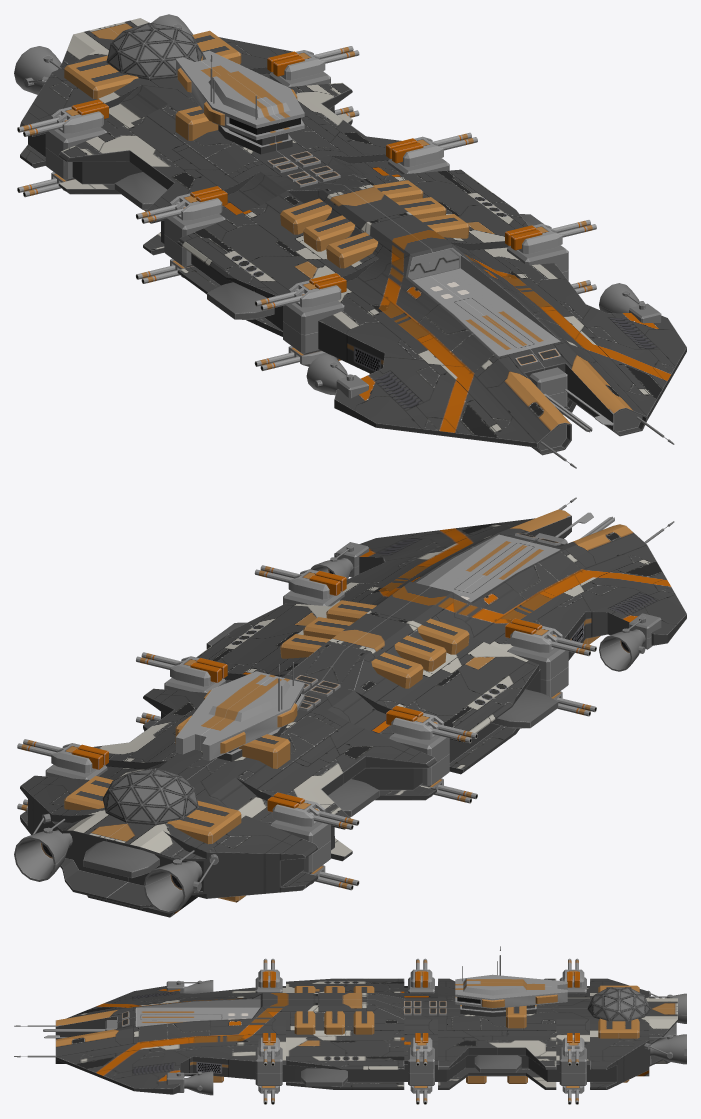
The model's file is Ender Battlecruiser.fbx.
The picture shows the model from 3 angles, top to bottom: view 1: azimuth 30°, elevation 25°; view 2: azimuth 150°, elevation 25°; view 3: azimuth 270°, elevation 25°; orthographic projection. The views are drawn at different scales.
Visible parts, largest first — view 1: Ship_hull001, guns, Command_bridge, Reactor, Engines, Shield_emitters, Comm_array, Torpedo_launchers; view 2: Ship_hull001, guns, Command_bridge, Engines, Reactor, Shield_emitters, Torpedo_launchers, Comm_array; view 3: Ship_hull001, guns, Command_bridge, Engines, Reactor, Shield_emitters, Torpedo_launchers, Comm_array.
Part boxes in pixels (bbox=[...]): Ship_hull001: bbox=[20, 18, 686, 455]; guns: bbox=[17, 46, 596, 370]; Command_bridge: bbox=[175, 50, 304, 154]; Reactor: bbox=[64, 22, 241, 98]; Engines: bbox=[14, 14, 661, 398]; Shield_emitters: bbox=[114, 126, 543, 319]; Comm_array: bbox=[529, 367, 674, 468]; Torpedo_launchers: bbox=[267, 151, 560, 367]; Ship_hull001: bbox=[20, 509, 686, 917]; guns: bbox=[17, 565, 596, 890]; Command_bridge: bbox=[175, 662, 304, 768]; Engines: bbox=[14, 542, 661, 913]; Reactor: bbox=[64, 768, 241, 844]; Shield_emitters: bbox=[83, 622, 558, 878]; Torpedo_launchers: bbox=[294, 533, 560, 711]; Comm_array: bbox=[535, 497, 674, 544]; Ship_hull001: bbox=[55, 978, 677, 1094]; guns: bbox=[255, 958, 586, 1104]; Command_bridge: bbox=[455, 946, 567, 1028]; Engines: bbox=[166, 980, 686, 1095]; Reactor: bbox=[587, 985, 650, 1038]; Shield_emitters: bbox=[301, 1023, 676, 1086]; Torpedo_launchers: bbox=[122, 1001, 446, 1026]; Comm_array: bbox=[14, 1020, 116, 1057].
Size of the model in its own units: 145 by 69.41 by 397.
Materials: 1 (1 with a texture image).
